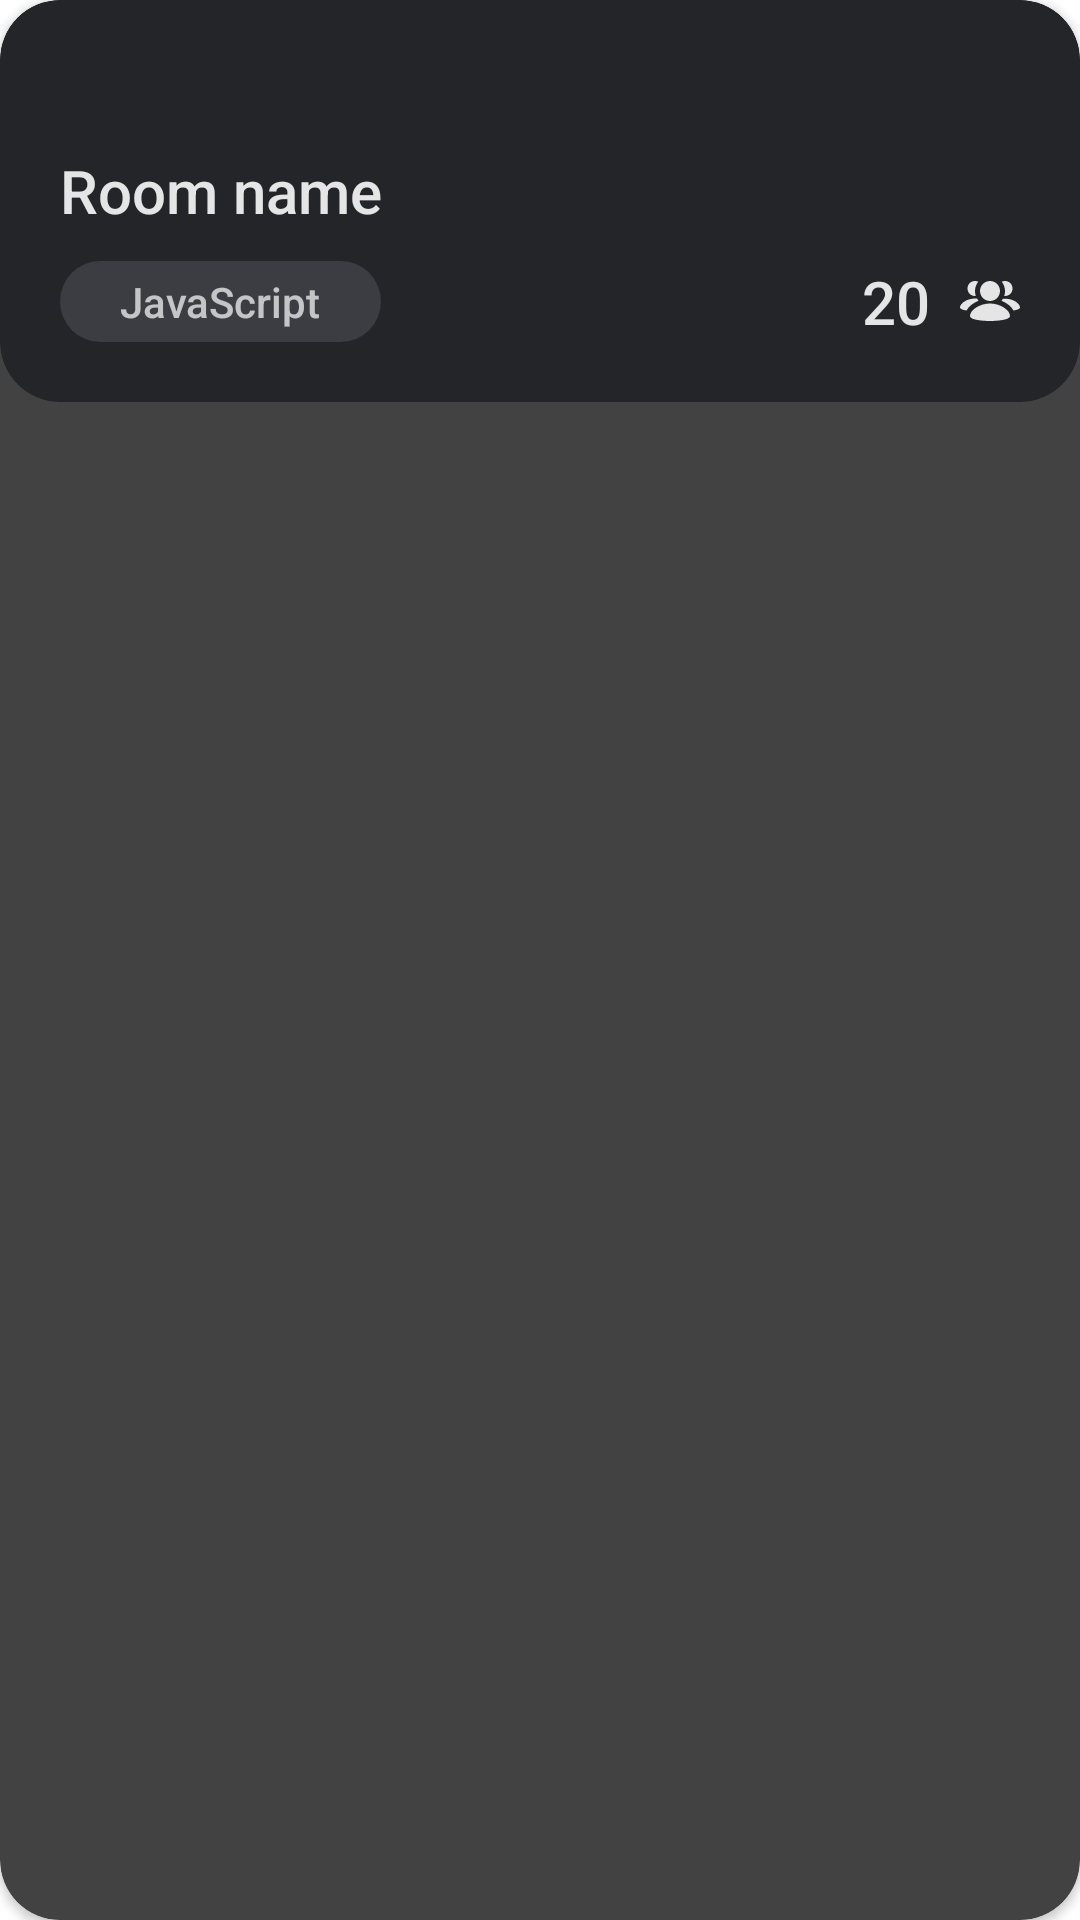

Locate icon controls on the screen. Image size 1080×1920, boxes as (x1, y1, x2, y2).
users: (960, 281, 1020, 321)
